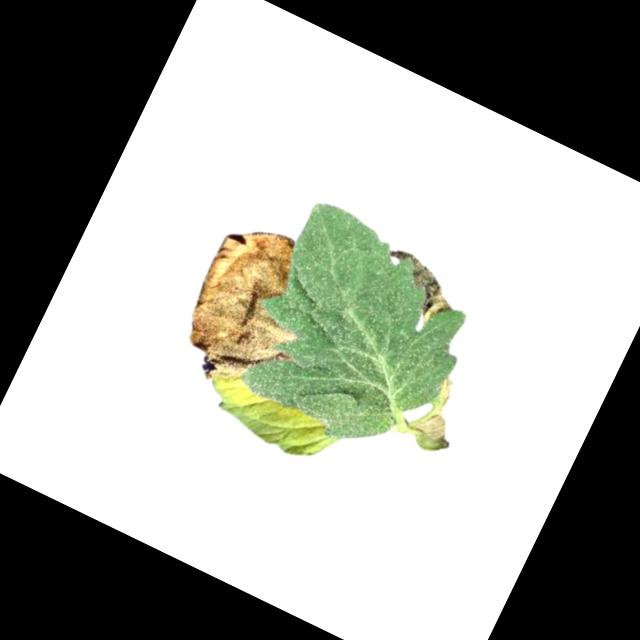Late_blight: (162, 209, 334, 408), (369, 243, 468, 334), (401, 368, 478, 461)
healthy: (221, 193, 497, 473)
